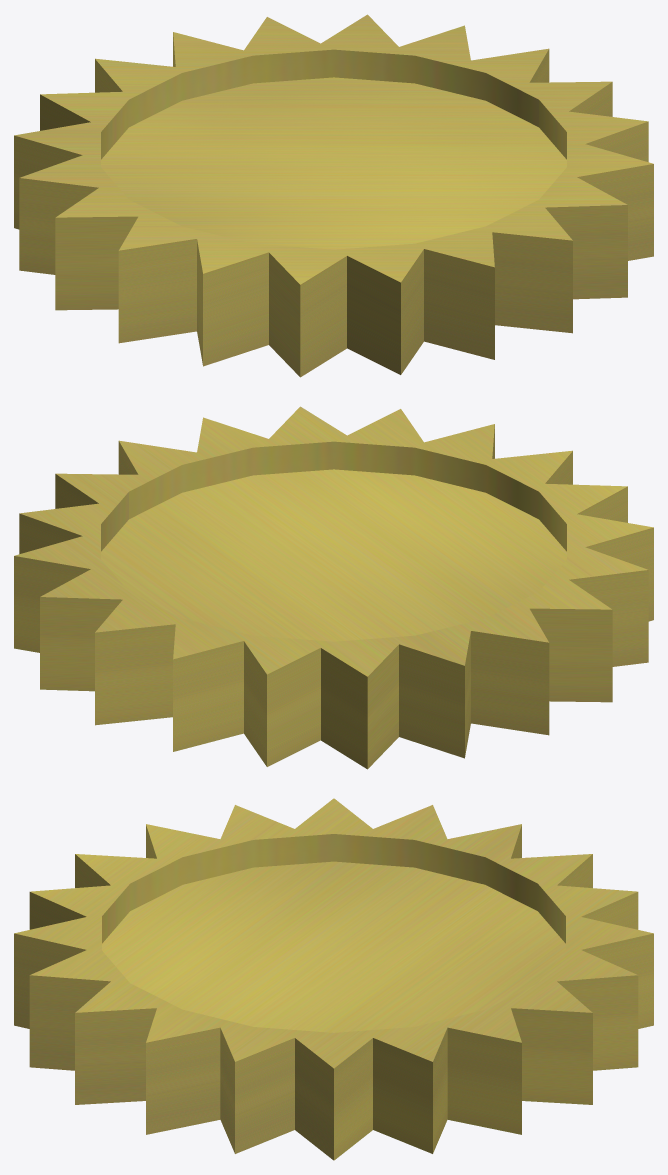
File: ClockStraightFacet020.fbx
The picture shows the model from 3 angles, top to bottom: view 1: azimuth 30°, elevation 25°; view 2: azimuth 150°, elevation 25°; view 3: azimuth 270°, elevation 25°; orthographic projection.
Visible parts, largest first — view 1: ClockStraightFacet020; view 2: ClockStraightFacet020; view 3: ClockStraightFacet020.
Part boxes in pixels (x1=…): ClockStraightFacet020: x1=14, y1=14, x2=653, y2=377; ClockStraightFacet020: x1=14, y1=406, x2=653, y2=769; ClockStraightFacet020: x1=14, y1=798, x2=653, y2=1160.
Bounding box in the file's own units: 124 × 19.69 × 124.
